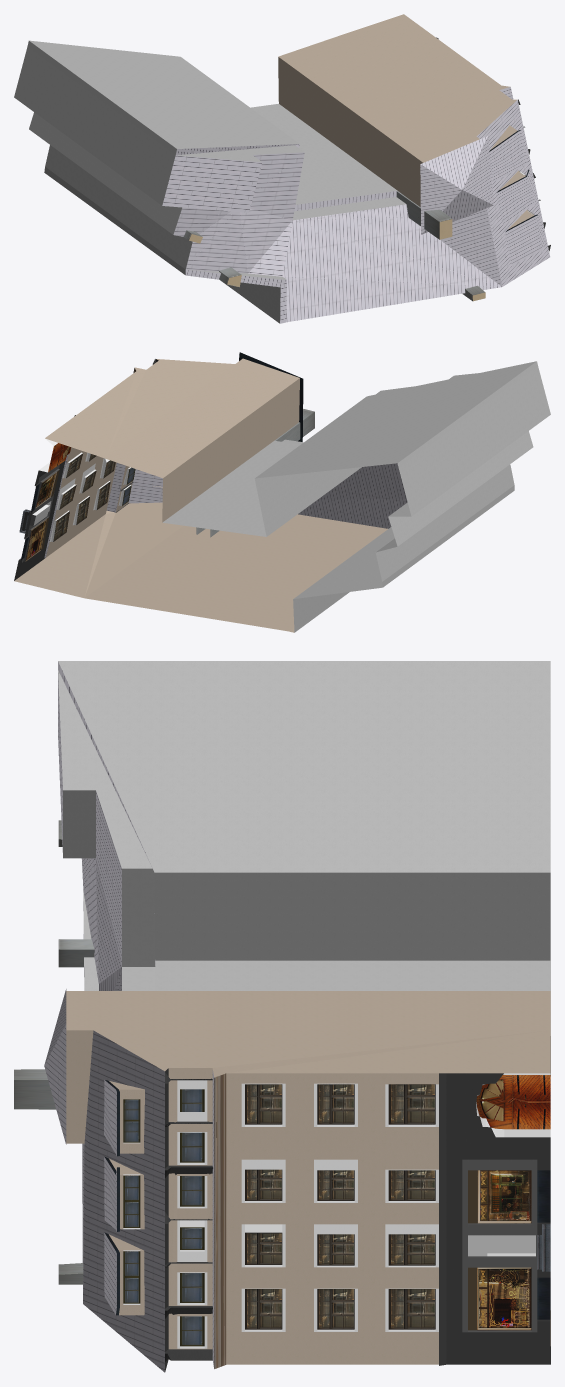
File: Suur-Karia_10-origo.obj
3 views of the same model, one above another, from view 1: azimuth 30°, elevation 25°; view 2: azimuth 150°, elevation 25°; view 3: azimuth 270°, elevation 25° (orthographic). The views are drawn at different scales.
Parts seen in each view (by area): view 1: Suur_Karia_10; view 2: Suur_Karia_10; view 3: Suur_Karia_10.
Part boxes in pixels (x1=…): Suur_Karia_10: x1=14, y1=14, x2=550, y2=323; Suur_Karia_10: x1=14, y1=352, x2=550, y2=632; Suur_Karia_10: x1=14, y1=661, x2=550, y2=1372.
Size of the model in its own units: 37.88 by 19.5 by 24.77.
